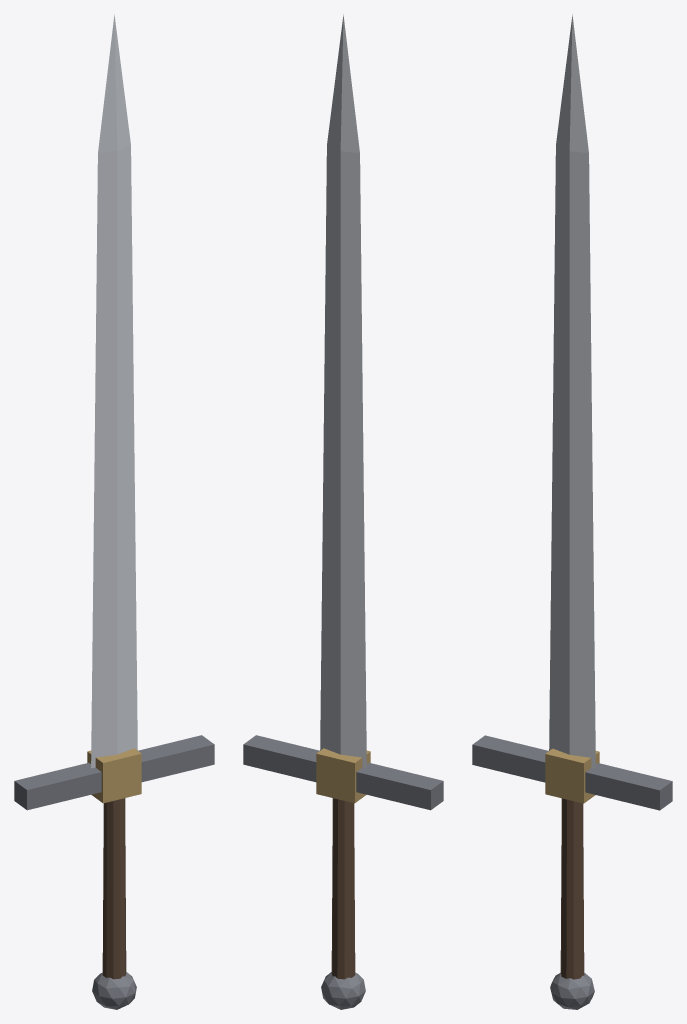
Rendered from greatsword.glb.
3 views of the same model, side by side, from view 1: azimuth 30°, elevation 25°; view 2: azimuth 150°, elevation 25°; view 3: azimuth 330°, elevation 25° (orthographic).
Parts seen in each view (by area): view 1: greatsword; view 2: greatsword; view 3: greatsword.
Part boxes in pixels (x1=…): greatsword: x1=14, y1=14, x2=214, y2=1009; greatsword: x1=243, y1=14, x2=443, y2=1009; greatsword: x1=472, y1=14, x2=672, y2=1009.
Bounding box in the file's own units: 0.34 × 1.72 × 0.072.
